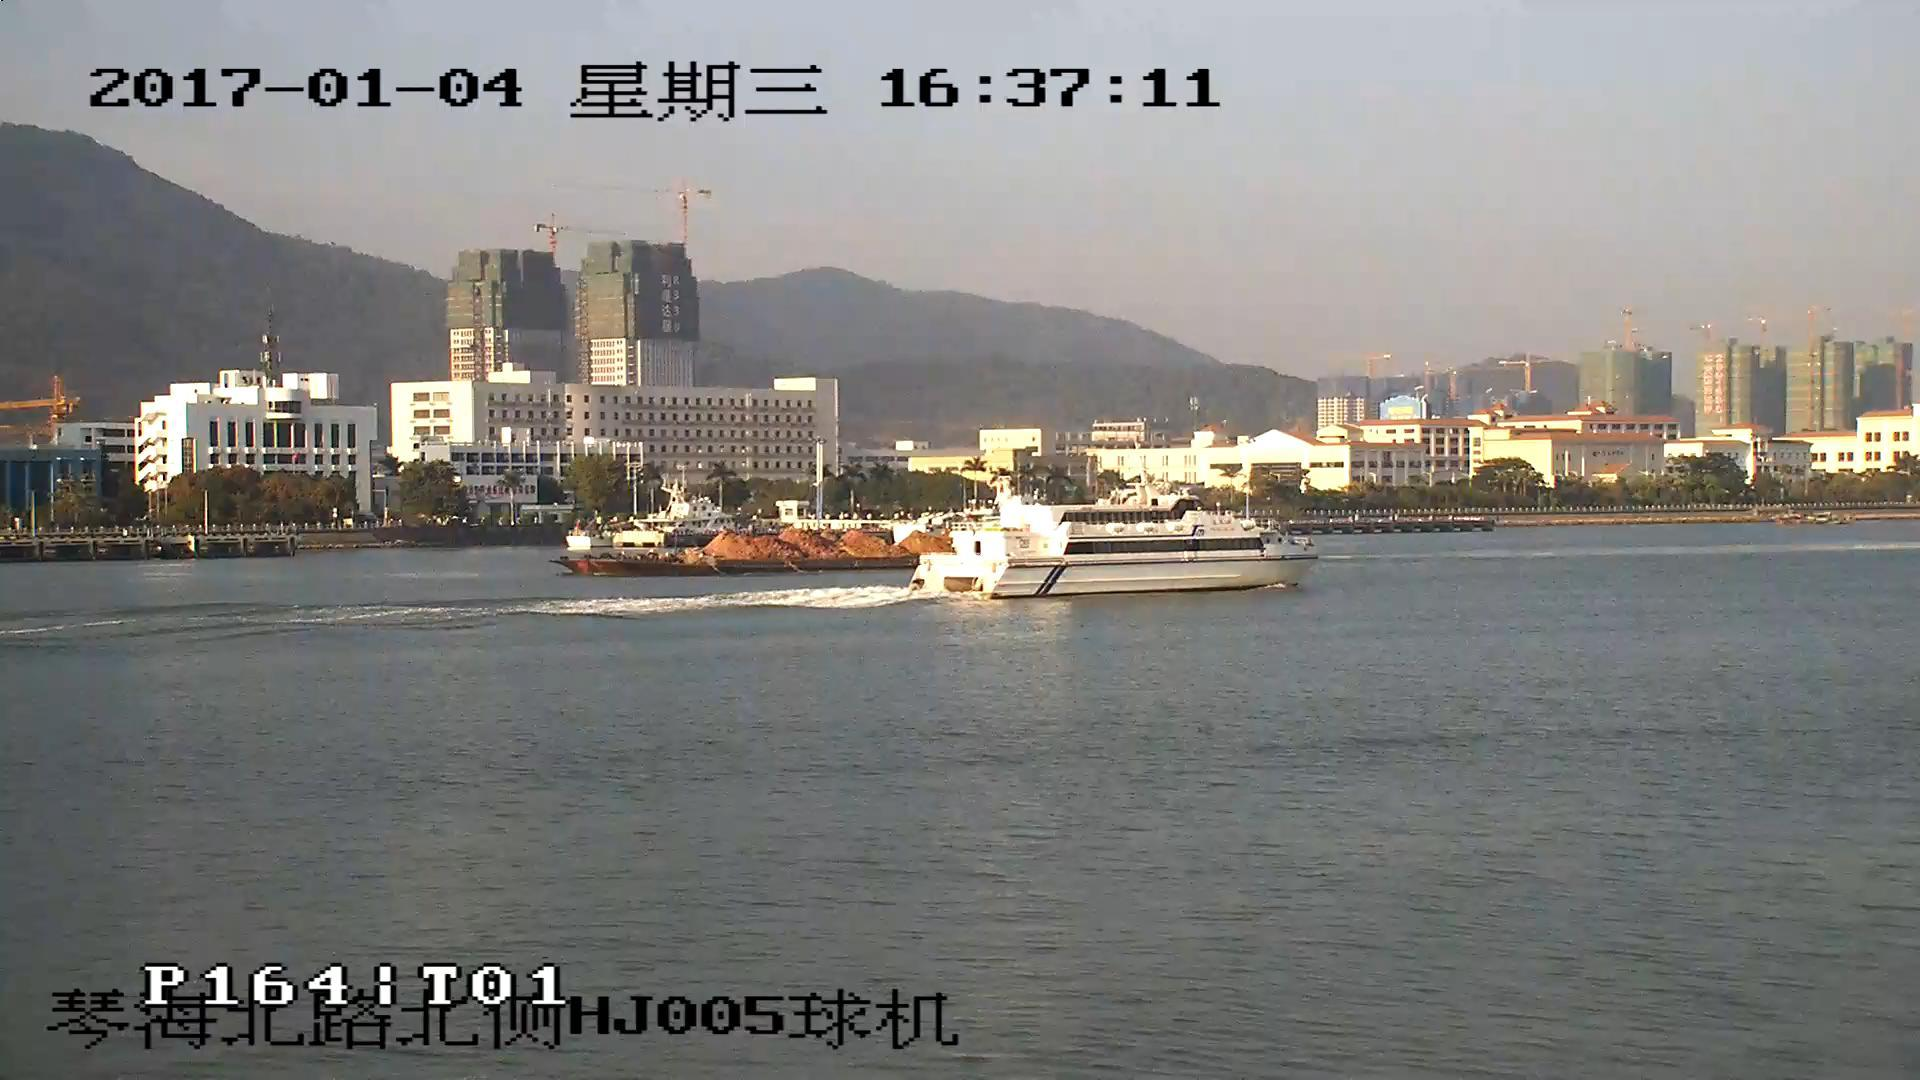Ship: (911, 473, 1323, 595), (564, 531, 928, 568)
